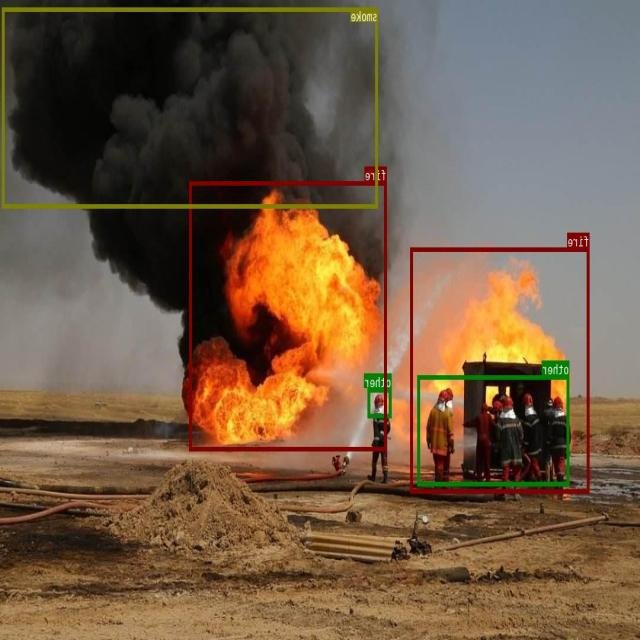fire: (190, 181, 388, 450), (411, 247, 590, 492)
other: (418, 374, 570, 484), (368, 388, 392, 417)
smoke: (3, 7, 378, 207)
